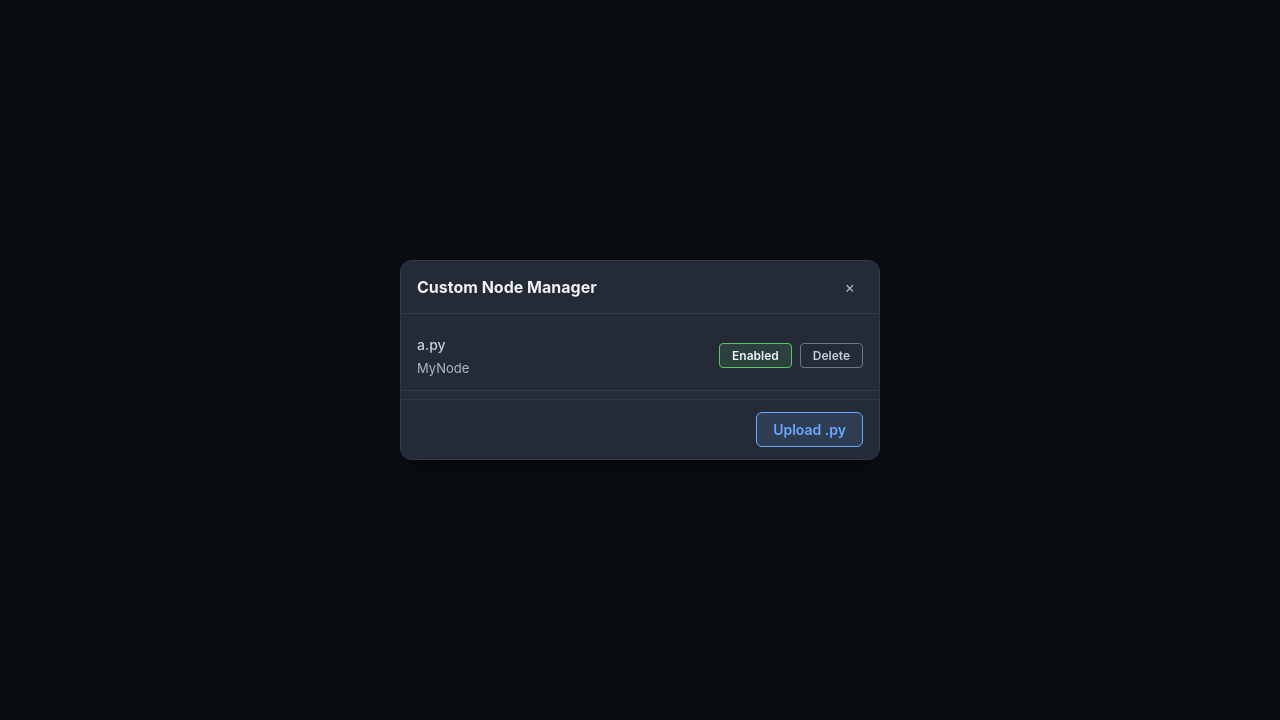
Test case: CustomNodeManager focus and re-reads › frees a row whose toggle failed: a second press sends a second request
Expected: the text "a.py" is shown, [417,336,446,353]
Click the button "Enabled": [755, 356] box [719,344,792,368]
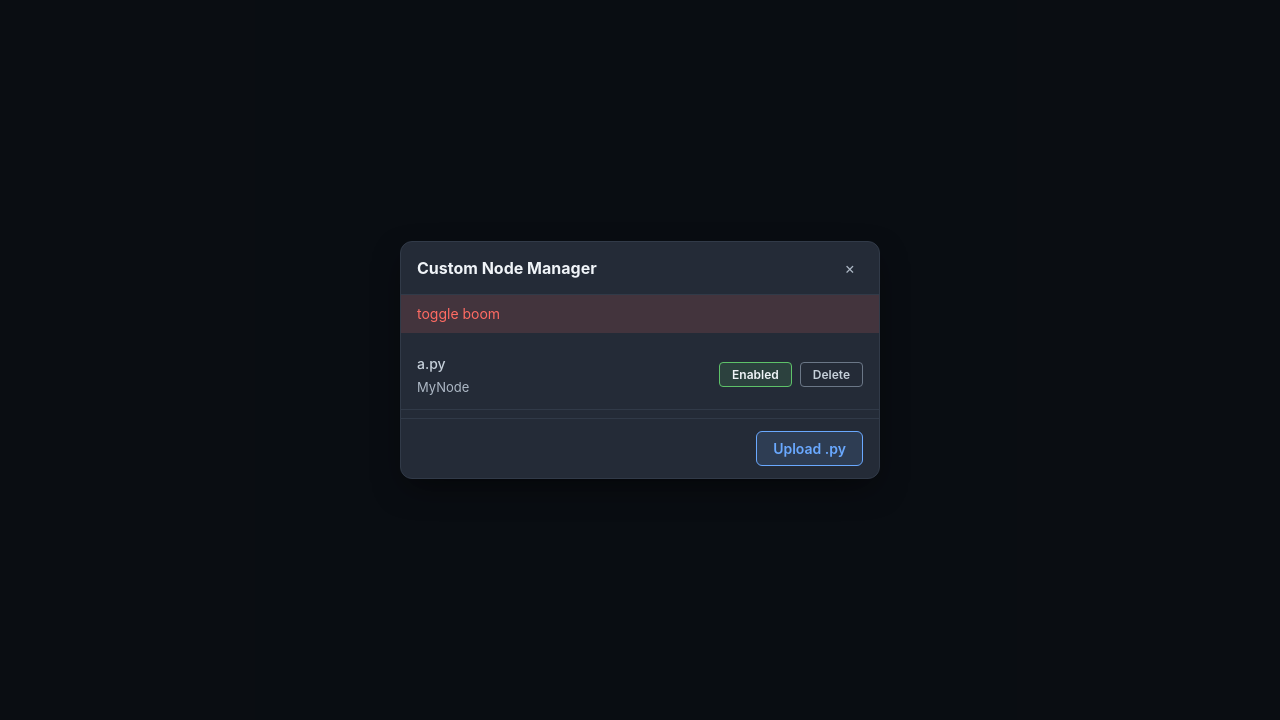
Result: the text "toggle boom" is shown at [401,295,879,333]
Click the button "Enabled": [755, 375] box [719,362,792,387]
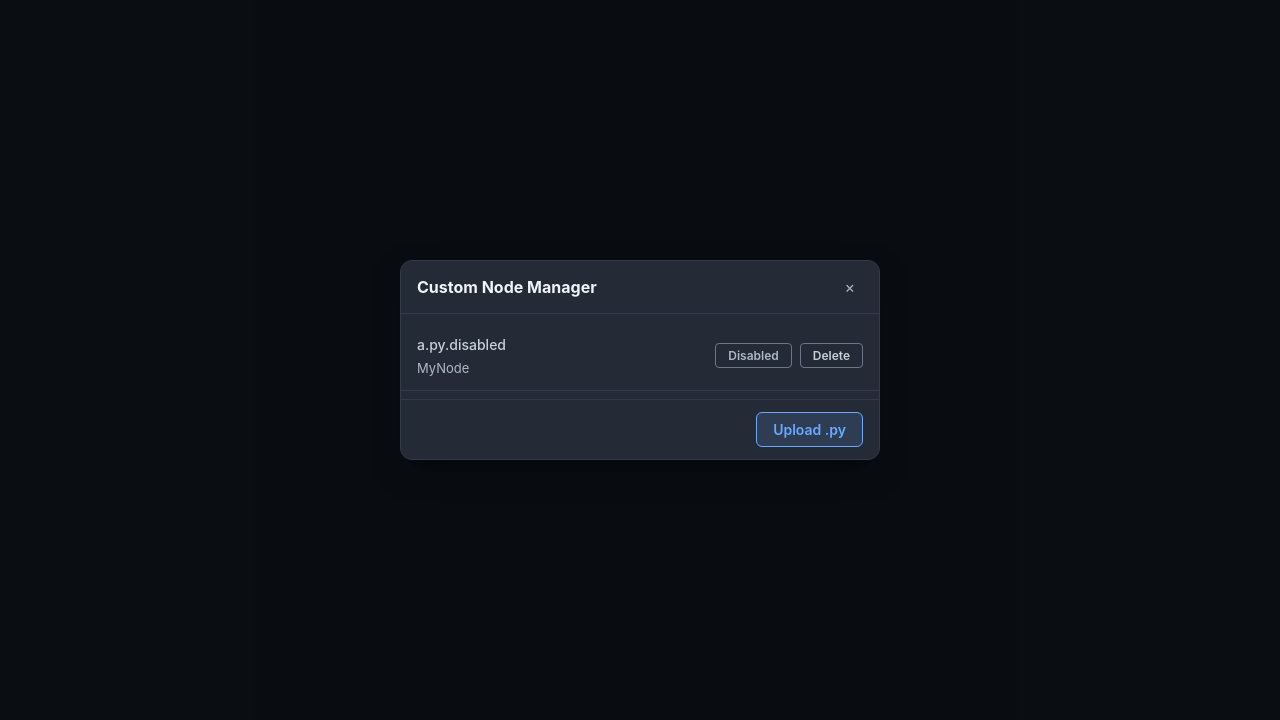
Result: the text "a.py.disabled" is shown at [417,336,506,353]
